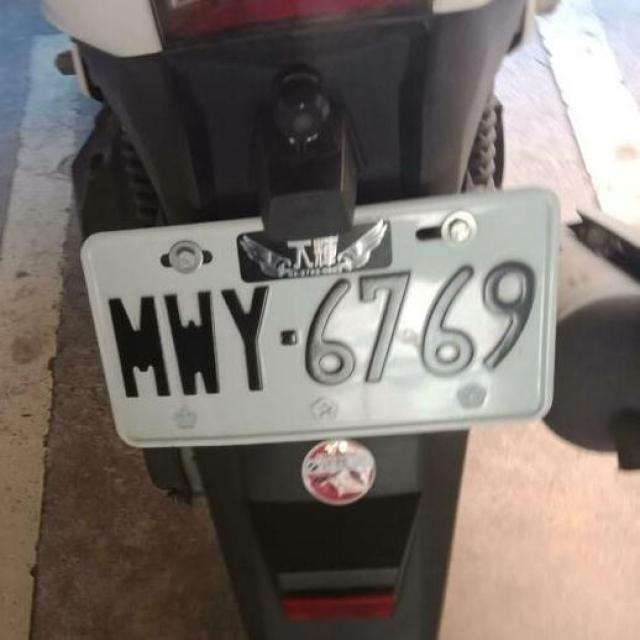W: (79, 164, 561, 481)
